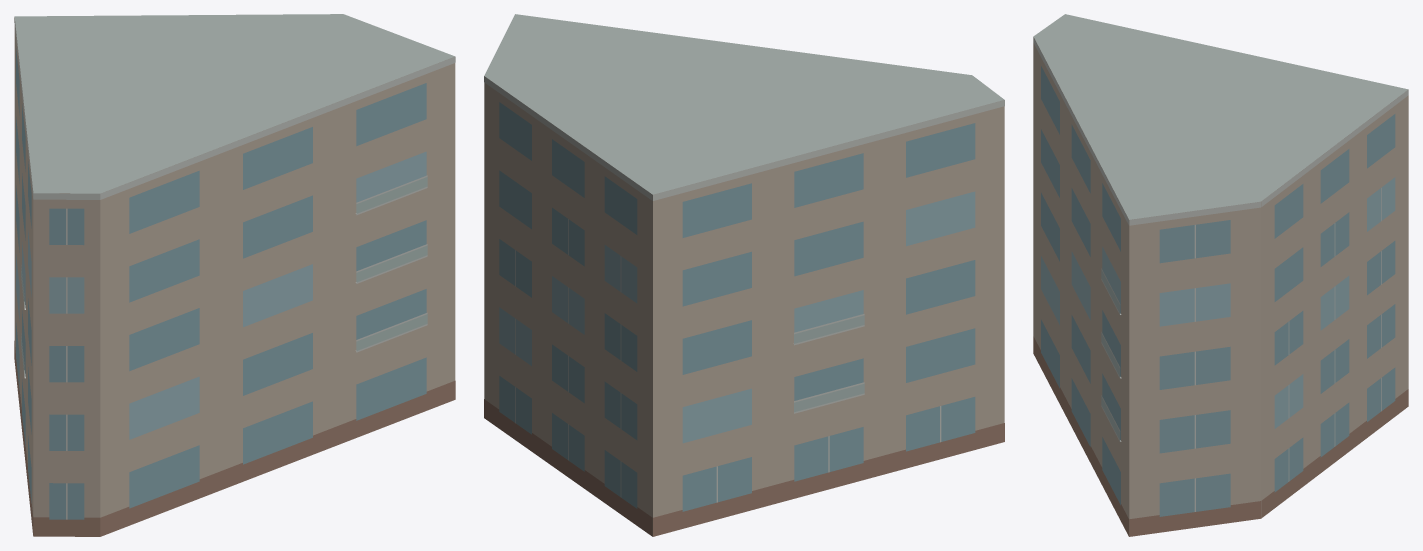
Rendered from survey-upis-32736571.glb.
The picture shows the model from 3 angles, left to right: view 1: azimuth 30°, elevation 25°; view 2: azimuth 150°, elevation 25°; view 3: azimuth 270°, elevation 25°; orthographic projection. The views are drawn at different scales.
Visible parts, largest first — view 1: survey-upis-32736571.tmp; view 2: survey-upis-32736571.tmp; view 3: survey-upis-32736571.tmp.
Boxes of the visible parts, bbox=[...] form: survey-upis-32736571.tmp: bbox=[14, 14, 455, 536]; survey-upis-32736571.tmp: bbox=[484, 14, 1004, 536]; survey-upis-32736571.tmp: bbox=[1033, 14, 1408, 536].
Size of the model in its own units: 18.25 by 13.1 by 14.06.
